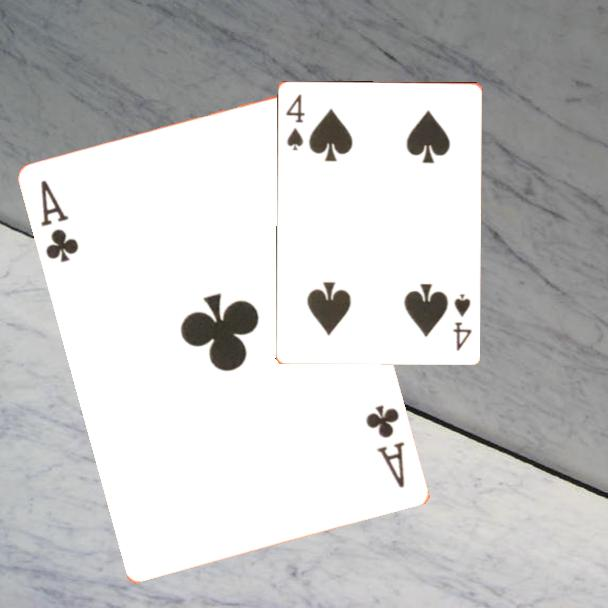c01: (37, 177, 83, 266), (363, 401, 408, 491)
s04: (282, 90, 307, 153), (449, 290, 474, 353)
